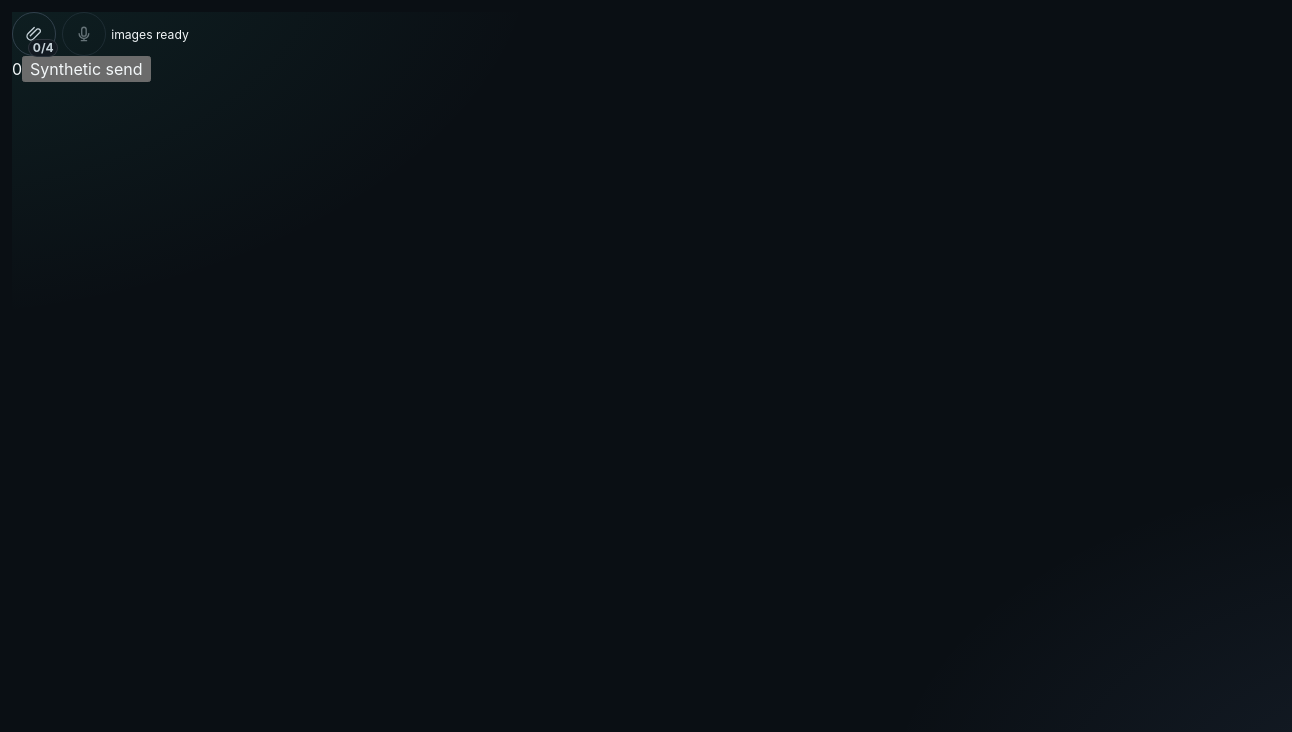
Test: AgentComposerAttachments › keeps an open source menu stable while a new runtime identity re-gates its choices
This screenshot has width=1292, height=732.
Later steps or results of the test are not shown.
Step 1. Click the button named "Attach" → click(34, 34), box [12,12,56,56]
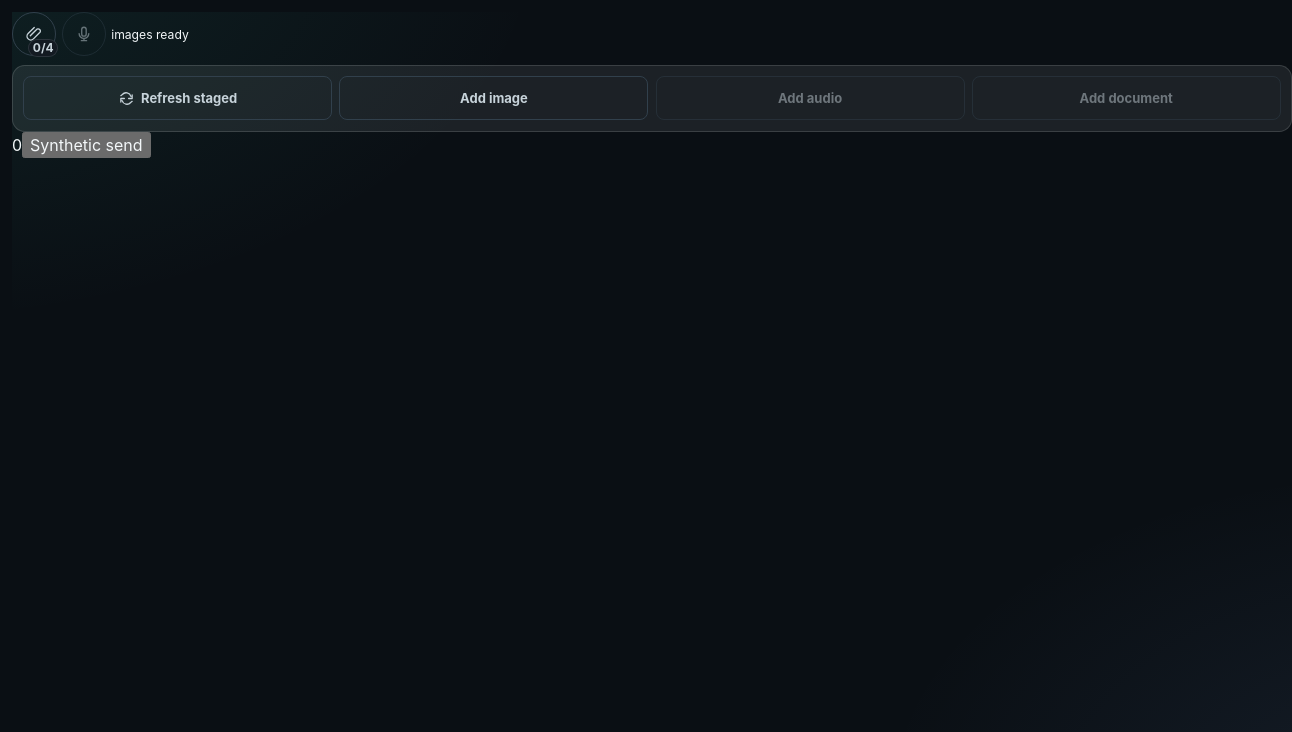
Expected: the element named "Attachment sources" is shown, [12,65,1291,132]
Expected: the button "Add image" is enabled, [340,76,648,120]
Expected: the button "Add audio" is disabled, [656,76,964,120]
